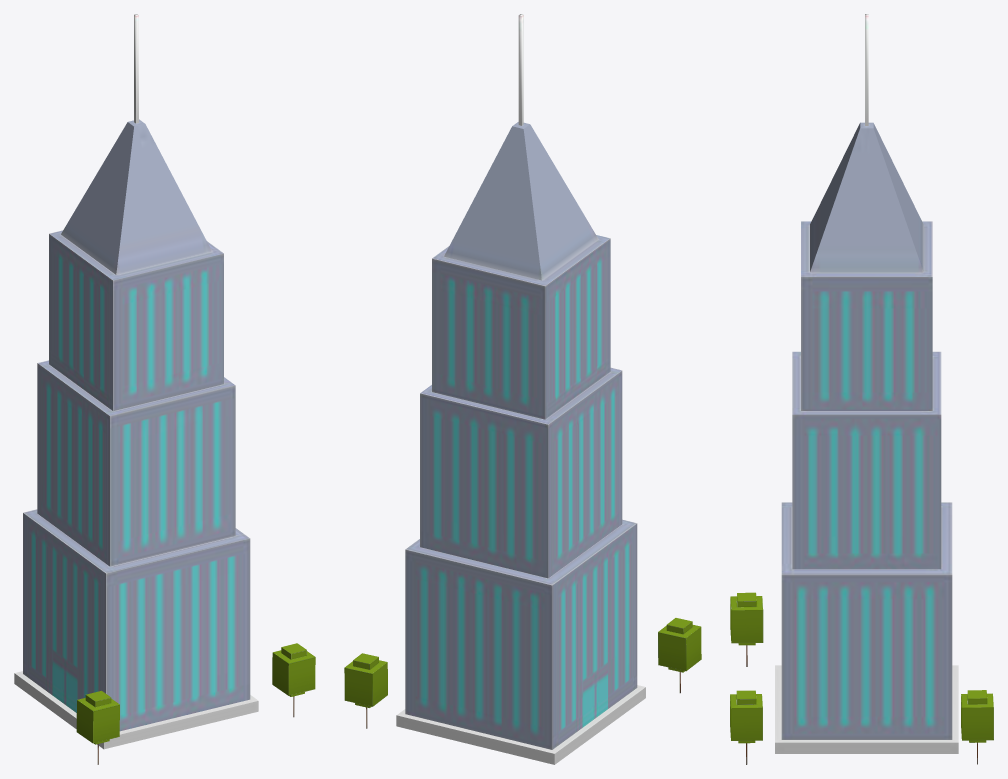
The model's file is living_education_3lvl.obj.
3 views of the same model, side by side, from view 1: azimuth 30°, elevation 25°; view 2: azimuth 150°, elevation 25°; view 3: azimuth 270°, elevation 25° (orthographic). The views are drawn at different scales.
Parts seen in each view (by area): view 1: living_education_3lvl_Mesh.166, Tree_3_499_2.029_Mesh.321, Tree_3_499_2.030_Mesh.322; view 2: living_education_3lvl_Mesh.166, Tree_3_499_2.030_Mesh.322, Tree_3_499_2.031_Mesh.323; view 3: living_education_3lvl_Mesh.166, Tree_3_499_2.030_Mesh.322, Tree_3_499_2.029_Mesh.321, Tree_3_499_2.031_Mesh.323.
Boxes of the visible parts, x1,y1,x2,y2 form: living_education_3lvl_Mesh.166: [14, 14, 258, 749]; Tree_3_499_2.029_Mesh.321: [272, 643, 315, 717]; Tree_3_499_2.030_Mesh.322: [76, 691, 119, 764]; living_education_3lvl_Mesh.166: [396, 14, 645, 764]; Tree_3_499_2.030_Mesh.322: [658, 618, 701, 693]; Tree_3_499_2.031_Mesh.323: [344, 653, 387, 728]; living_education_3lvl_Mesh.166: [775, 14, 958, 753]; Tree_3_499_2.030_Mesh.322: [730, 592, 763, 666]; Tree_3_499_2.029_Mesh.321: [730, 690, 762, 764]; Tree_3_499_2.031_Mesh.323: [961, 690, 993, 764].
Size of the model in its own units: 1.94 by 5.67 by 1.93.
2 materials, 2 textured.
